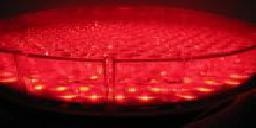LED: (5, 5, 251, 102)
